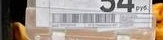1d: (52, 12, 116, 25)
